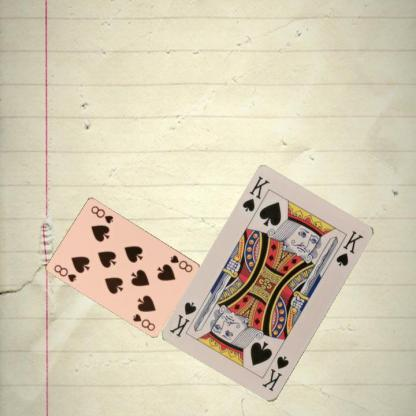8s: (168, 252, 194, 274), (51, 262, 78, 283)
Ks: (240, 174, 271, 214), (260, 353, 290, 394)
